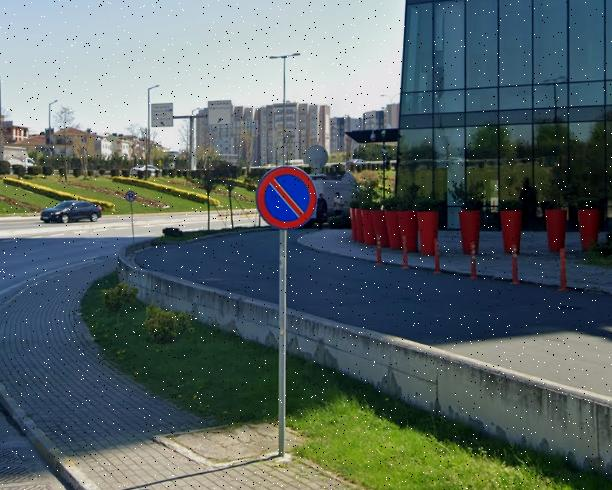nopark: (255, 168, 317, 229)
